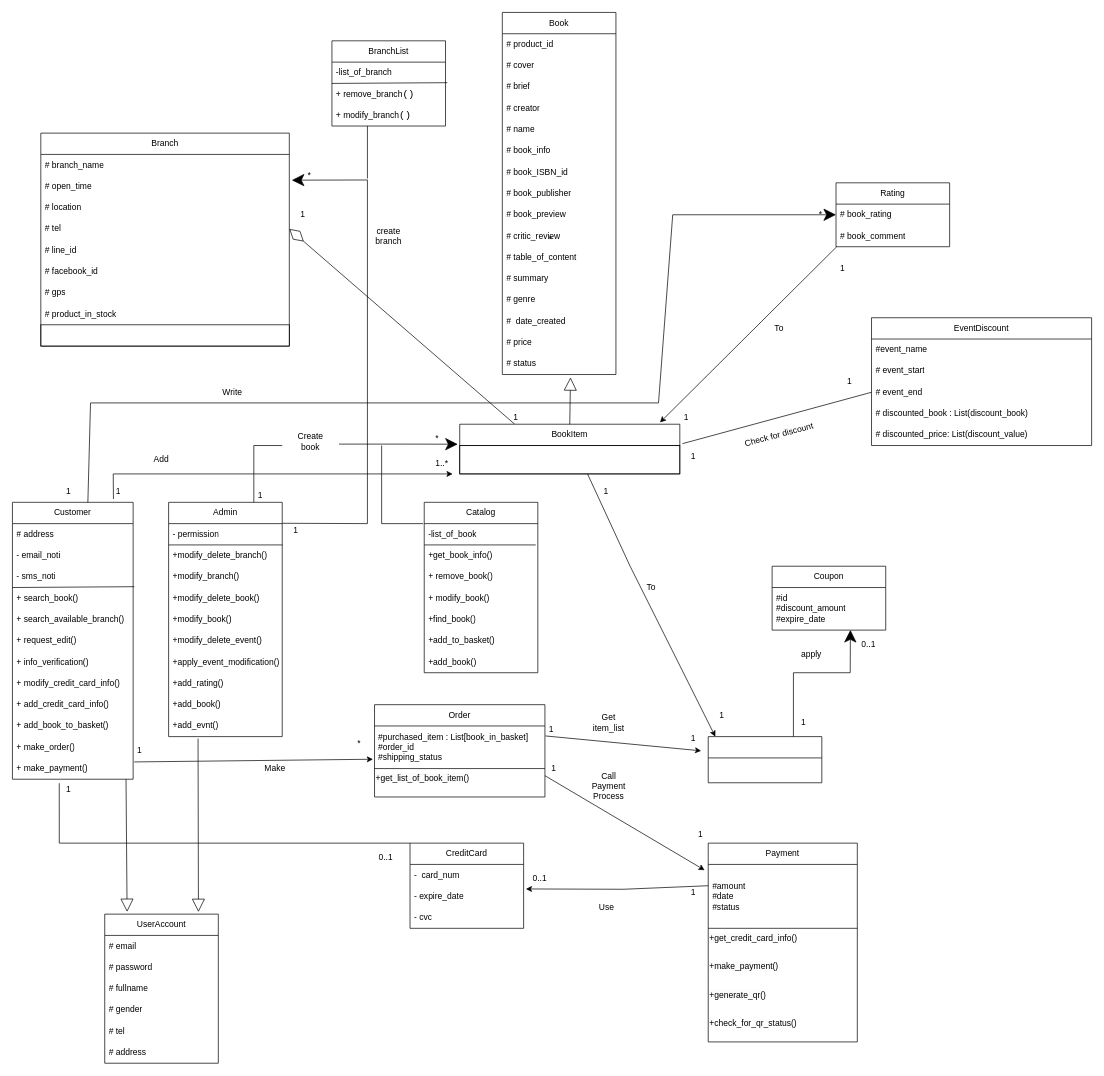
Image size: 1104x1076. Some labels were removed from this diagram. The shapes that lost their labels are listed below. From the top down, each one's centre as x and y in pixels, then its label:
the point at 164,335: + add_branch ()
the point at 569,459: + get_branch_with_book ()
the point at 765,759: Basket
